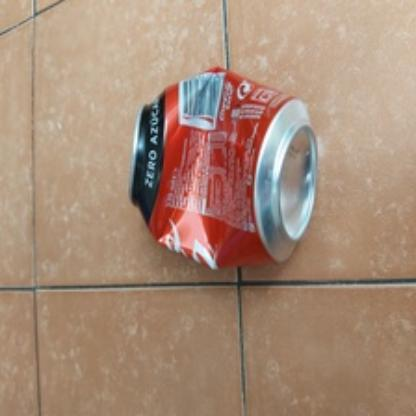Can: (126, 64, 320, 272)
